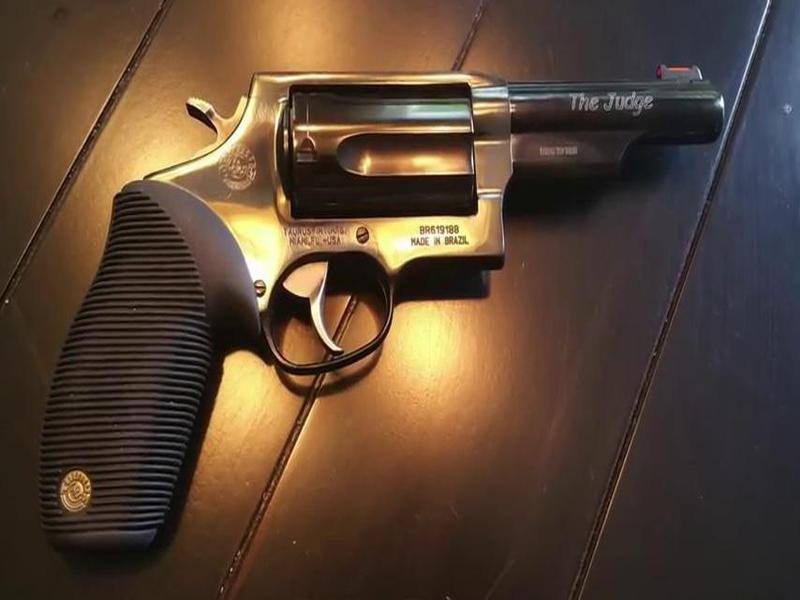Revolver: (47, 37, 723, 444)
